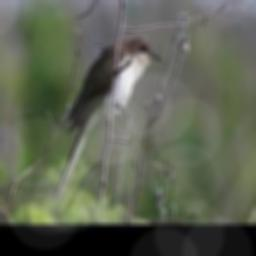Cuckoo: (53, 35, 162, 208)
